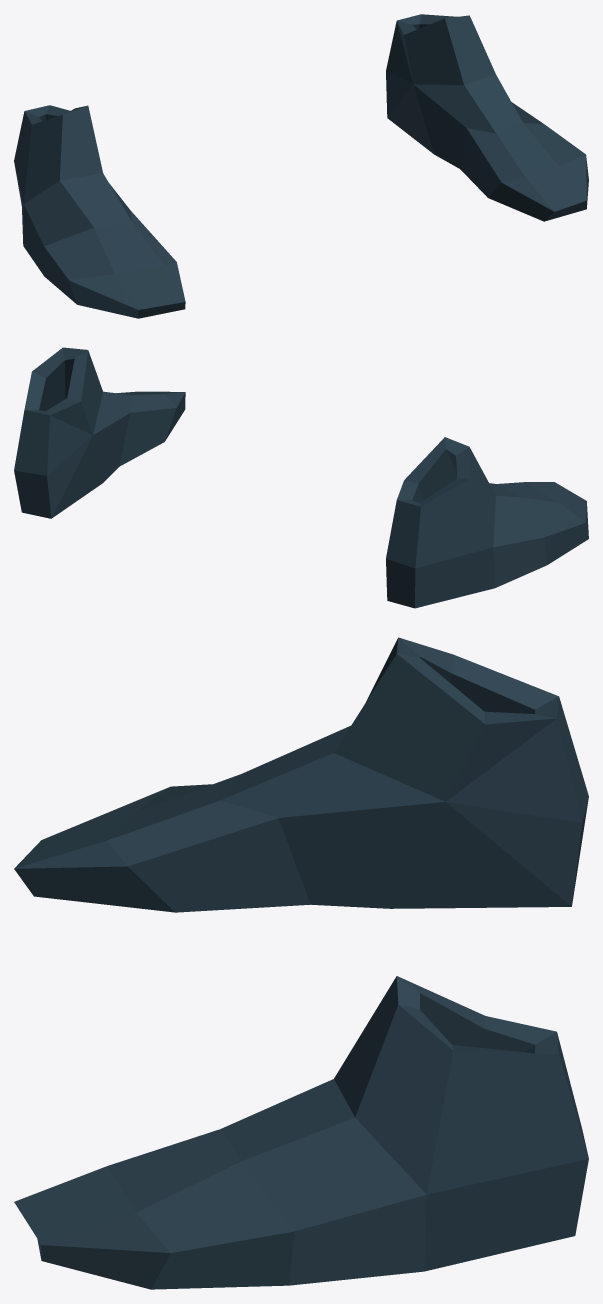
Rendered from botas.fbx.
The picture shows the model from 3 angles, top to bottom: view 1: azimuth 30°, elevation 25°; view 2: azimuth 150°, elevation 25°; view 3: azimuth 270°, elevation 25°; orthographic projection. The views are drawn at different scales.
Parts seen in each view (by area): view 1: male.003; view 2: male.003; view 3: male.003.
Boxes of the visible parts, x1,y1,x2,y2 form: male.003: (14, 14, 588, 318); male.003: (14, 347, 588, 608); male.003: (14, 637, 588, 1289).
Size of the model in its own units: 165 by 40.08 by 85.69.
1 material, 1 textured.
